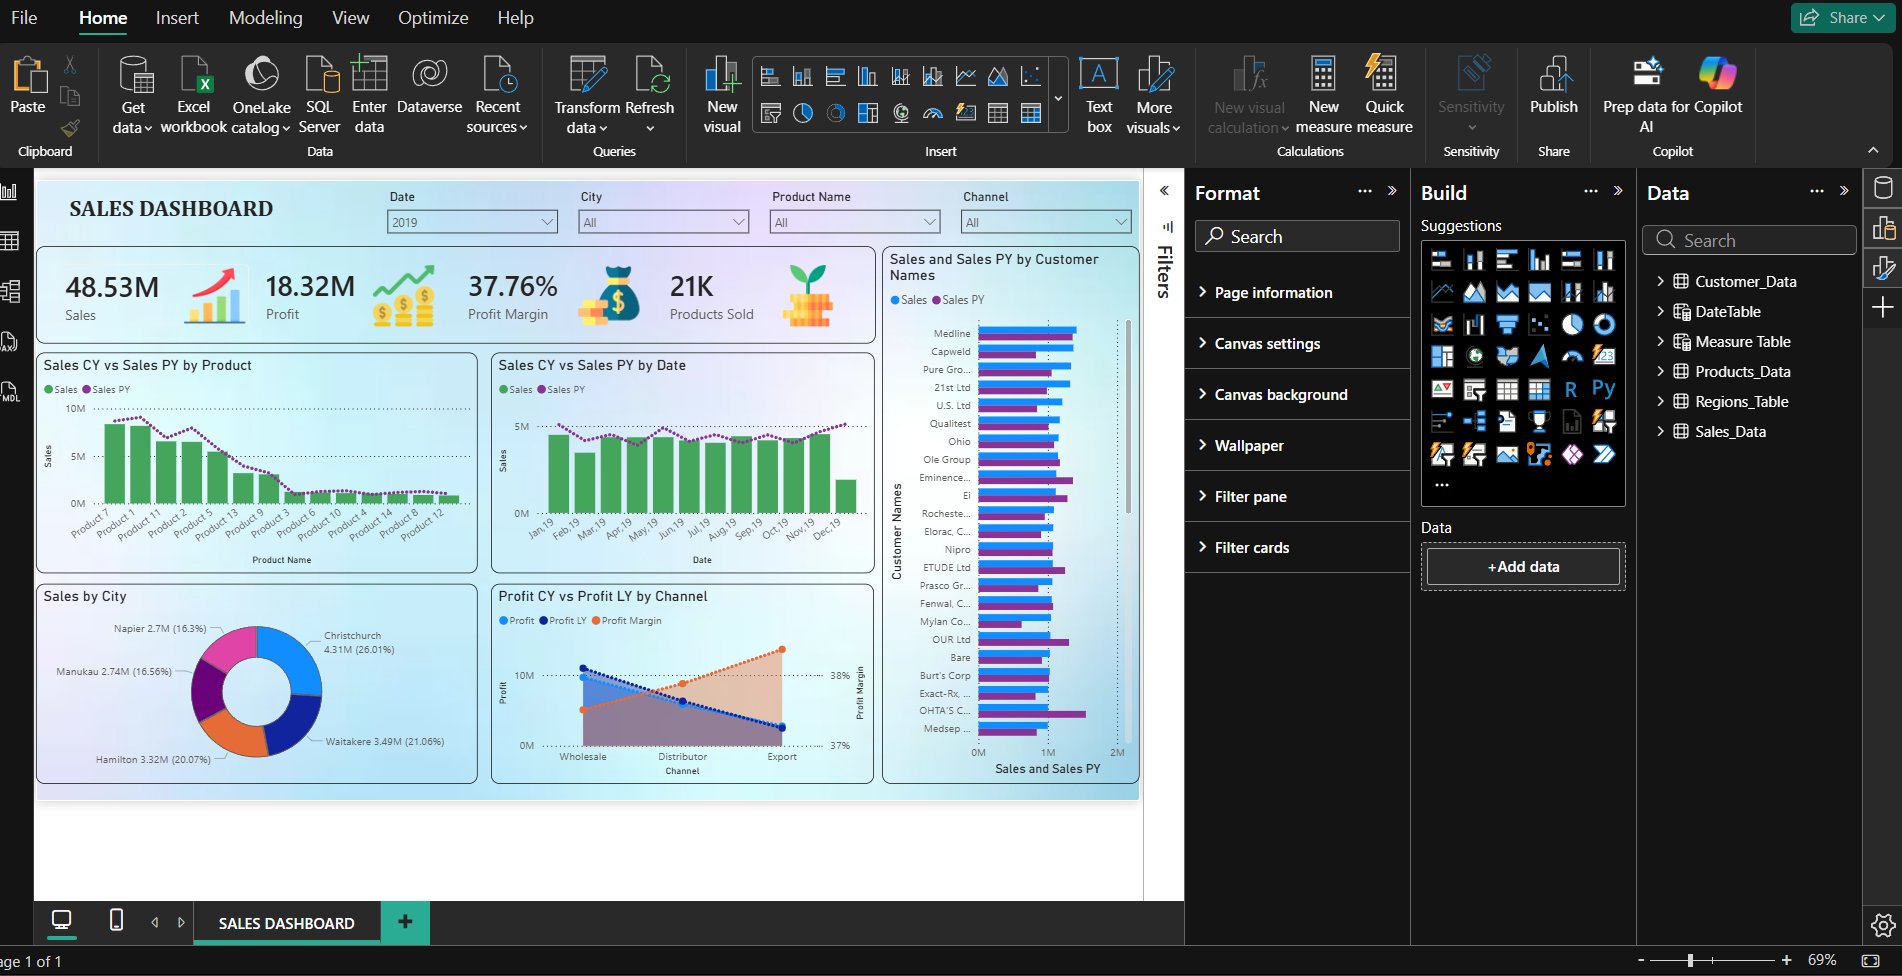

The page's visual inventory and layout, read from the dashboard file:
{"tool":"powerbi","page":{"name":"SALES DASHBOARD","canvas":[1280,720],"ordinal":0},"visuals":[{"type":"slicer","fields":{"Values":["DateTable.Year","DateTable.Month Short Name Plus Year"]},"box":[396.8,5.8,218.1,71],"z":0,"group":"g1"},{"type":"textbox","title":"SALES DASHBOARD","box":[0,11.5,314.5,59.2],"z":0},{"type":"slicer","fields":{"Values":["Regions_Table.City"]},"box":[618.5,5.8,218.1,71],"z":1000,"group":"g1"},{"type":"lineClusteredColumnComboChart","title":"Sales CY vs Sales PY by Product","fields":{"Category":["Products_Data.Product Name"],"Y2":["Measure Table.Sales PY"],"Y":["Measure Table.Sales"]},"box":[0,200.5,512,256],"z":1000},{"type":"slicer","fields":{"Values":["Products_Data.Product Name"]},"box":[840.2,5.8,218.1,71],"z":2000,"group":"g1"},{"type":"lineClusteredColumnComboChart","title":"Sales CY vs Sales PY by Date","fields":{"Y2":["Measure Table.Sales PY"],"Y":["Measure Table.Sales"],"Category":["DateTable.Month Short Name Plus Year"]},"box":[527.6,200.5,445.2,256],"z":2000},{"type":"slicer","fields":{"Values":["Sales_Data.Channel"]},"box":[1062,5.8,218.1,71],"z":3000,"group":"g1"},{"type":"donutChart","fields":{"Y":["Measure Table.Sales"],"Category":["Regions_Table.City"]},"box":[0,467.9,512,231.8],"z":3000},{"type":"group","id":"g1","title":"Group 2","box":[396.8,5.8,883,70.7],"z":4000},{"type":"areaChart","title":"Profit CY vs Profit LY by Channel","fields":{"Category":["Sales_Data.Channel"],"Y":["Measure Table.Profit","Measure Table.Profit LY"],"Y2":["Measure Table.Profit Margin"]},"box":[527.6,467.9,443.7,231.8],"z":5000},{"type":"clusteredBarChart","fields":{"Y":["Measure Table.Sales","Measure Table.Sales PY"],"Category":["Customer_Data.Customer Names"]},"box":[981.1,76.5,298.7,623.3],"z":6000},{"type":"cardVisual","fields":{"Data":["Measure Table.Sales","Measure Table.Profit","Measure Table.Profit Margin","Measure Table.Products Sold"]},"box":[0,76.5,973.9,112.5],"z":7000},{"type":"image","box":[158,98.6,98.6,71],"z":7001},{"type":"image","box":[375.4,98.6,101.4,71],"z":7002},{"type":"image","box":[618.8,98.6,89.9,71],"z":7003},{"type":"image","box":[840.6,98.6,108.7,71],"z":7004}]}

Visuals, with their boxes on the page's 1280x720 design canvas (x1, y1, x2, y2). These are canvas units, not pixel positions in the 1902x976 screenshot, which may show the page scaled, cropped or inside an application window:
slicer - DateTable.Year x DateTable.Month Short Name Plus Year: left=397, top=6, right=615, bottom=77
"SALES DASHBOARD" textbox: left=0, top=12, right=314, bottom=71
slicer - Regions_Table.City: left=618, top=6, right=837, bottom=77
"Sales CY vs Sales PY by Product" lineClusteredColumnComboChart: left=0, top=200, right=512, bottom=456
slicer - Products_Data.Product Name: left=840, top=6, right=1058, bottom=77
"Sales CY vs Sales PY by Date" lineClusteredColumnComboChart: left=528, top=200, right=973, bottom=456
slicer - Sales_Data.Channel: left=1062, top=6, right=1280, bottom=77
donutChart - Measure Table.Sales x Regions_Table.City: left=0, top=468, right=512, bottom=700
"Group 2" group: left=397, top=6, right=1280, bottom=76
"Profit CY vs Profit LY by Channel" areaChart: left=528, top=468, right=971, bottom=700
clusteredBarChart - Measure Table.Sales x Measure Table.Sales PY: left=981, top=76, right=1280, bottom=700
cardVisual - Measure Table.Sales x Measure Table.Profit: left=0, top=76, right=974, bottom=189
image: left=158, top=99, right=257, bottom=170
image: left=375, top=99, right=477, bottom=170
image: left=619, top=99, right=709, bottom=170
image: left=841, top=99, right=949, bottom=170
